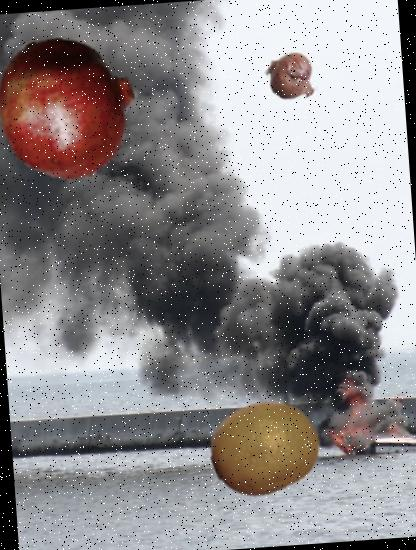Lemon: (206, 388, 324, 506)
Onion: (262, 46, 322, 106)
Pomegranate: (0, 28, 145, 184)
